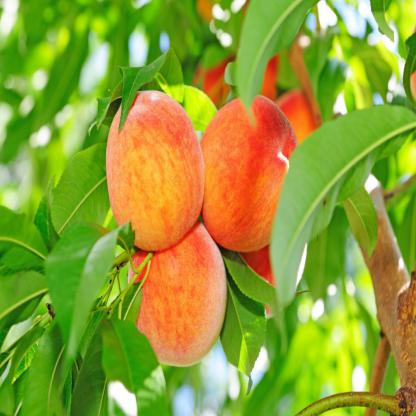peach leaf: (116, 43, 191, 135), (101, 313, 167, 415), (220, 273, 268, 400), (52, 137, 106, 235), (343, 188, 379, 259)
